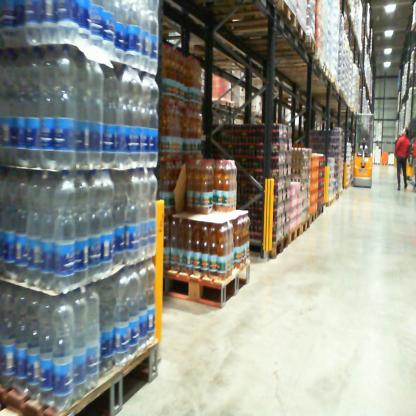pallet: (1, 332, 165, 414), (159, 255, 259, 314), (194, 2, 299, 37), (211, 15, 308, 47), (232, 29, 318, 57), (247, 230, 289, 256), (281, 221, 302, 245), (294, 216, 312, 239), (206, 97, 235, 110), (308, 208, 319, 224), (318, 202, 325, 218)
pallet_truck: (354, 111, 378, 190)
